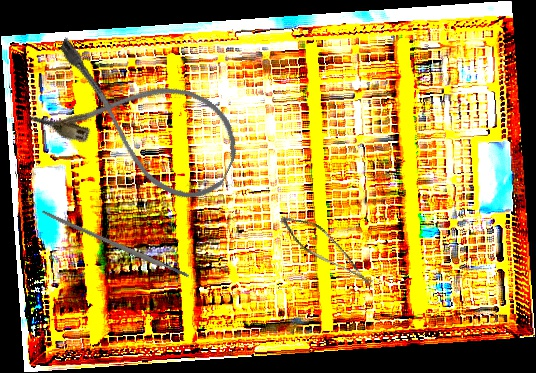Cannula: (24, 31, 253, 212)
Micro Scissor: (271, 209, 387, 289)
Scalpel Handle: (40, 208, 191, 281)
